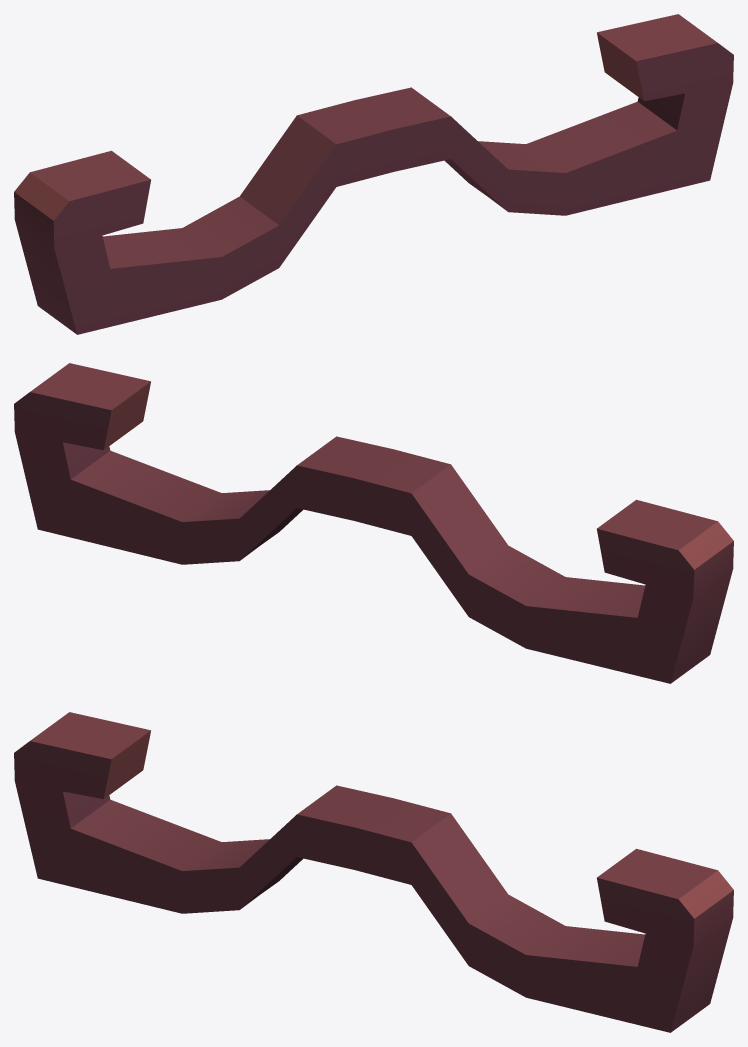
The model's file is arch.glb.
The picture shows the model from 3 angles, top to bottom: view 1: azimuth 30°, elevation 25°; view 2: azimuth 150°, elevation 25°; view 3: azimuth 330°, elevation 25°; orthographic projection.
Parts seen in each view (by area): view 1: arch; view 2: arch; view 3: arch.
Part boxes in pixels (x1,y1,x2,y2): arch: [14, 14, 733, 334]; arch: [14, 363, 733, 683]; arch: [14, 712, 733, 1032].
Size of the model in its own units: 4.67 by 0.8991 by 0.4704.
Materials: 1 (1 with a texture image).
